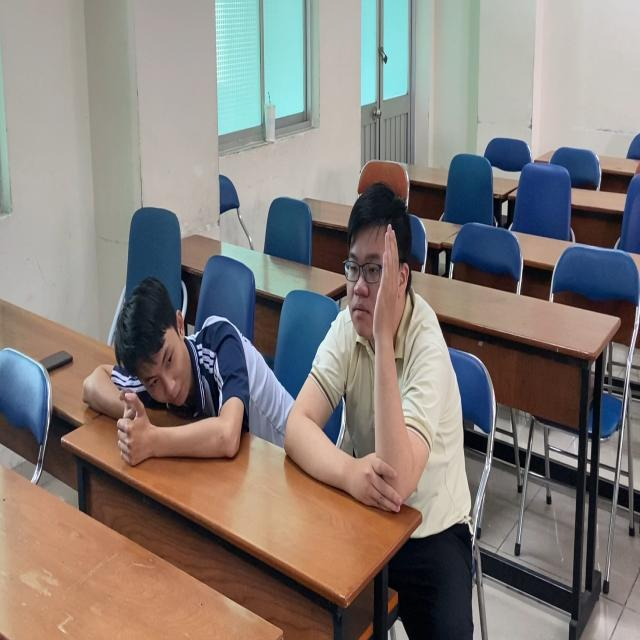raise_hand: (286, 181, 456, 506)
sleep: (73, 268, 289, 467)
